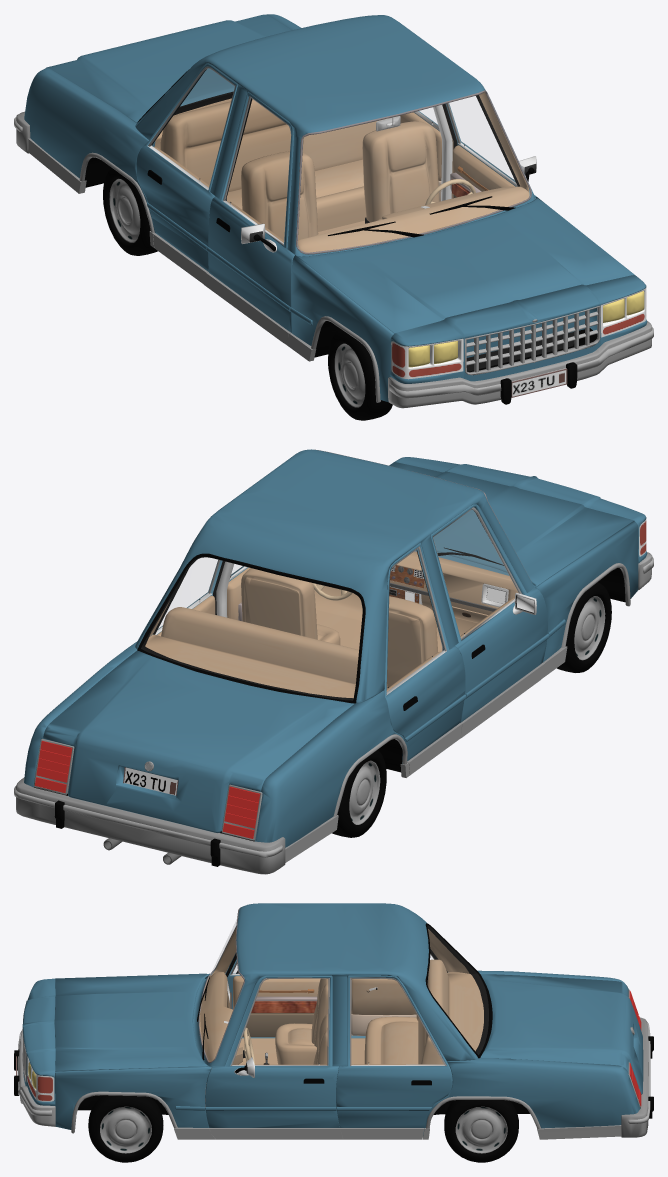
The model's file is gumball-car.optimized.glb.
3 renders of one model, top to bottom at view 1: azimuth 30°, elevation 25°; view 2: azimuth 150°, elevation 25°; view 3: azimuth 270°, elevation 25°, orthographic. The views are drawn at different scales.
Parts seen in each view (by area): view 1: Object_8, Object_3, Object_35, Object_29, Object_2, Object_75, Object_82; view 2: Object_8, Object_3, Object_35, Object_29, Object_82; view 3: Object_8, Object_3, Object_29, Object_75, Object_64, Object_2.
Boxes of the visible parts, x1,y1,x2,y2 form: Object_8: (14,14,653,420); Object_3: (154,98,529,252); Object_35: (179,68,515,182); Object_29: (109,178,365,407); Object_2: (391,288,646,379); Object_75: (297,92,529,252); Object_82: (512,370,566,396); Object_8: (14,449,653,874); Object_3: (145,551,518,698); Object_35: (158,509,508,629); Object_29: (349,596,605,824); Object_82: (124,767,177,795); Object_8: (14,903,653,1162); Object_3: (200,959,483,1064); Object_29: (100,1106,507,1153); Object_75: (199,928,469,1042); Object_64: (251,1001,316,1012); Object_2: (27,1056,54,1101).
Bounding box in the file's own units: 1.87 × 1.39 × 4.45.
Materials: 10 (10 with a texture image).
